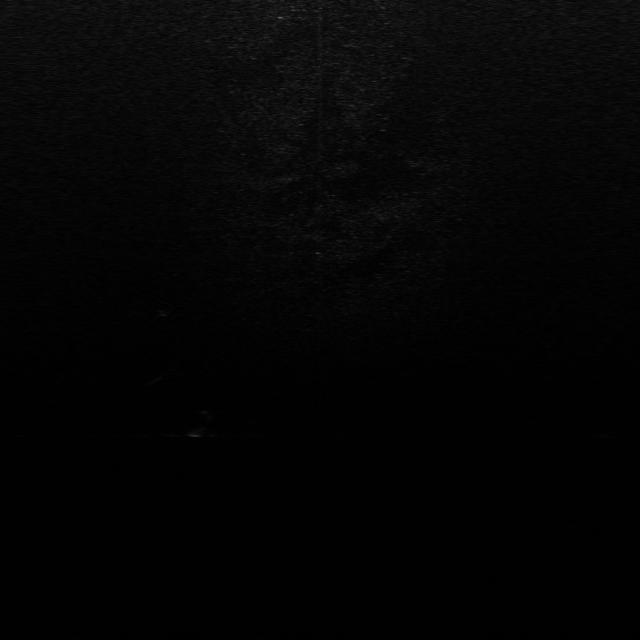ball: (160, 360, 190, 378)
circle cage: (153, 300, 178, 319)
tyre: (186, 407, 216, 438)
